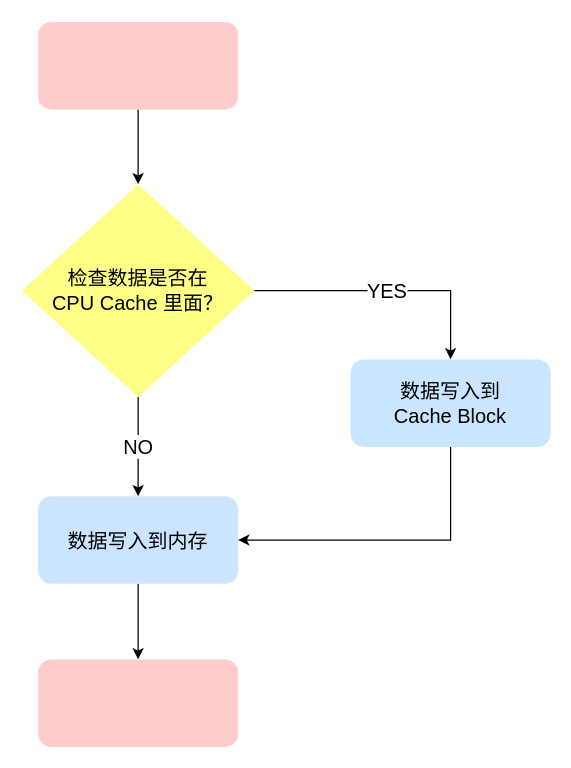
This 571x768 diagram has some shape labels left out. Each missing label, with the centre of its shape:
CPU 写入数据操作: (x=138, y=65)
完成: (x=138, y=702)
